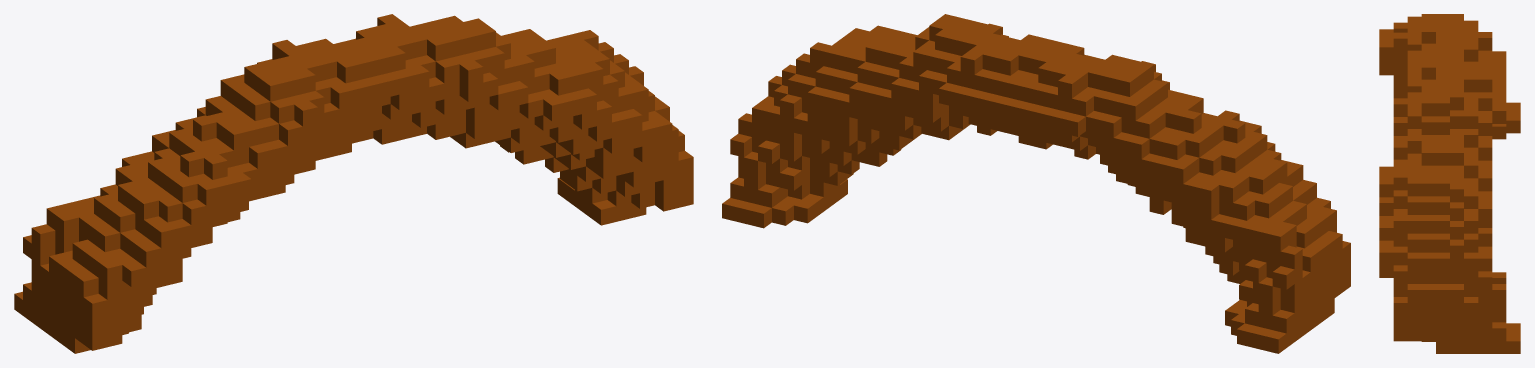
File: level 1 Checkpoint 2-1.obj
3 renders of one model, left to right at view 1: azimuth 30°, elevation 25°; view 2: azimuth 150°, elevation 25°; view 3: azimuth 270°, elevation 25°, orthographic. The views are drawn at different scales.
Bounding box in the file's own units: 40 × 14 × 10.
Materials: 1 (1 with a texture image).
